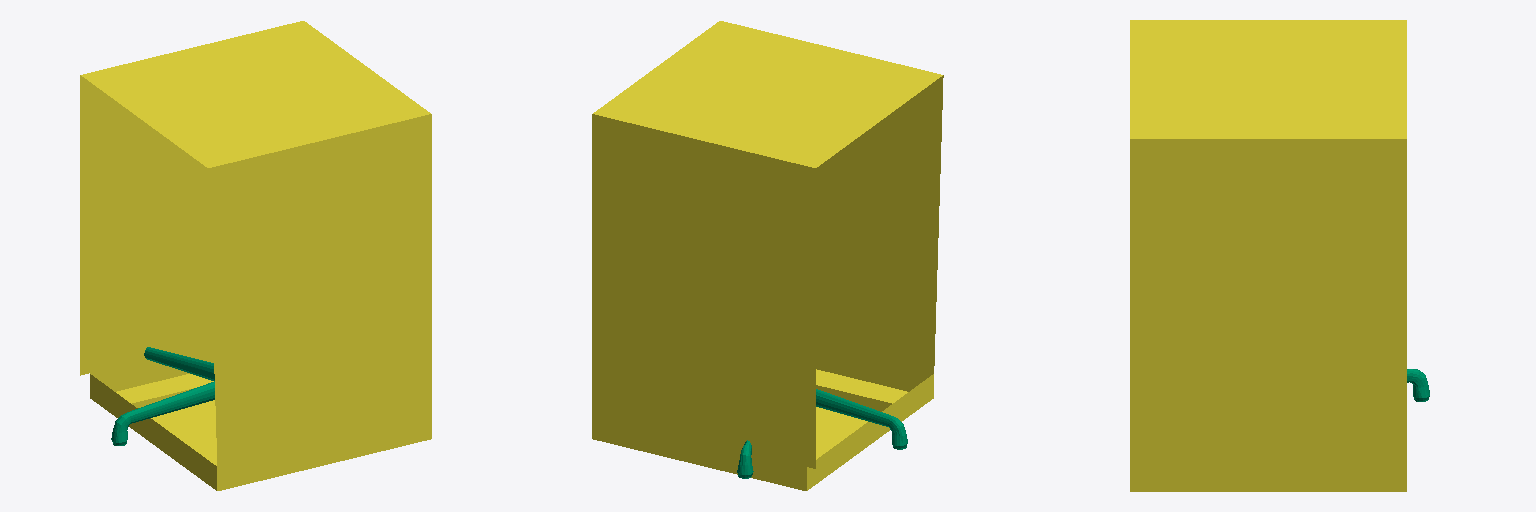
The robot description file, URDF, robot "partnet_5b81d7830eabb7547c6e1fb05e1b9037":
<?xml version="1.0" ?>
<robot name="partnet_5b81d7830eabb7547c6e1fb05e1b9037">
	<link name="base"/>



	<link name="handle">
		<visual name="handle-8">
			<origin xyz="-0.49549596211149094 -0.6874990000000003 -0.49109900923239014"/>
			<geometry>
				<mesh filename="textured_objs/new-1.obj"/>
			</geometry>
		</visual>
		<collision>
			<origin xyz="-0.49549596211149094 -0.6874990000000003 -0.46109900923239014"/>
			<geometry>
				<mesh filename="textured_objs/new-1.obj"/>
			</geometry>
		</collision>
	</link>
	<joint name="joint_handle" type="fixed">
		<origin xyz="0 0 0"/>
		<axis xyz="0 1 0"/>
		<child link="handle"/>
		<parent link="link_0"/>
	</joint>

	<link name="link_0">
		<visual name="door_frame-7">
			<origin xyz="-0.49549596211149094 -0.6874990000000003 -0.49109900923239014"/>
			<geometry>
				<mesh filename="textured_objs/new-4.obj"/>
			</geometry>
		</visual>
		<visual name="glass-9">
			<origin xyz="-0.49549596211149094 -0.6874990000000003 -0.49109900923239014"/>
			<geometry>
				<mesh filename="textured_objs/new-3.obj"/>
			</geometry>
		</visual>
		<collision>
			<origin xyz="-0.49549596211149094 -0.6874990000000003 -0.49109900923239014"/>
			<geometry>
				<mesh filename="textured_objs/new-4.obj"/>
			</geometry>
		</collision>
		<collision>
			<origin xyz="-0.49549596211149094 -0.6874990000000003 -0.49109900923239014"/>
			<geometry>
				<mesh filename="textured_objs/new-3.obj"/>
			</geometry>
		</collision>
	</link>
	<joint name="joint_0" type="revolute">
		<origin xyz="0.49549596211149094 0.6874990000000003 0.49109900923239014"/>
		<axis xyz="0 1 0"/>
		<child link="link_0"/>
		<parent link="link_1"/>
		<limit lower="-0.0" upper="3.141592653589793"/>
	</joint>
	<link name="link_1">
		<visual name="surface-4">
			<origin xyz="0 0 0"/>
			<geometry>
				<mesh filename="textured_objs/new-0.obj"/>
			</geometry>
		</visual>
		<visual name="frame-5">
			<origin xyz="0 0 0"/>
			<geometry>
				<mesh filename="textured_objs/new-2.obj"/>
			</geometry>
		</visual>
		<collision>
			<origin xyz="0 0 0"/>
			<geometry>
				<mesh filename="textured_objs/new-0.obj"/>
			</geometry>
		</collision>
		<!-- <collision>
			<origin xyz="0 0 0"/>
			<geometry>
				<mesh filename="textured_objs/new-2.obj"/>
			</geometry>
		</collision> -->
		<collision>
			<origin xyz="0 0 0"/>
			<geometry>
				<mesh filename="textured_objs/new-2-left.obj"/>
			</geometry>
		</collision>
		<collision>
			<origin xyz="0 0 0"/>
			<geometry>
				<mesh filename="textured_objs/new-2-right.obj"/>
			</geometry>
		</collision>
		<collision>
			<origin xyz="0 0 0"/>
			<geometry>
				<mesh filename="textured_objs/new-2-top.obj"/>
			</geometry>
		</collision>
		<collision>
			<origin xyz="0 0 0"/>
			<geometry>
				<mesh filename="textured_objs/new-2-bottom.obj"/>
			</geometry>
		</collision>
		<collision>
			<origin xyz="0 0 0"/>
			<geometry>
				<mesh filename="textured_objs/new-2-back.obj"/>
			</geometry>
		</collision>
		<collision>
			<origin xyz="0 0 0"/>
			<geometry>
				<mesh filename="textured_objs/new-2-front.obj"/>
			</geometry>
		</collision>
	</link>
	<joint name="joint_1" type="fixed">
		<origin rpy="1.570796326794897 0 -1.570796326794897" xyz="0 0 0"/>
		<child link="link_1"/>
		<parent link="base"/>
	</joint>
</robot>

--- What the picture shows (computed from the rendered views, not written in the file) ---
Views: 3 orthographic renders of the robot side by side, from view 1: azimuth 30°, elevation 25°; view 2: azimuth 150°, elevation 25°; view 3: azimuth 270°, elevation 25°.
Model partnet_5b81d7830eabb7547c6e1fb05e1b9037 with 4 links and 3 joints (1 revolute, 2 fixed), rooted at base, posed every joint at zero.
Links seen in each view (by area): view 1: link_1, link_0; view 2: link_1, link_0; view 3: link_1, link_0.
Link boxes in pixels (x1,y1,x2,y2): link_1: [80, 21, 431, 490]; link_0: [111, 347, 214, 445]; link_1: [592, 21, 943, 490]; link_0: [737, 389, 907, 478]; link_1: [1130, 20, 1406, 491]; link_0: [1407, 369, 1429, 401].
Size in the robot's own frame: 1.16 by 1.11 by 1.49 metres.
4 mesh visuals loaded from 5 distinct referenced files (4 OBJ); not drawn: 1 (reference not matched to a file when rendering).